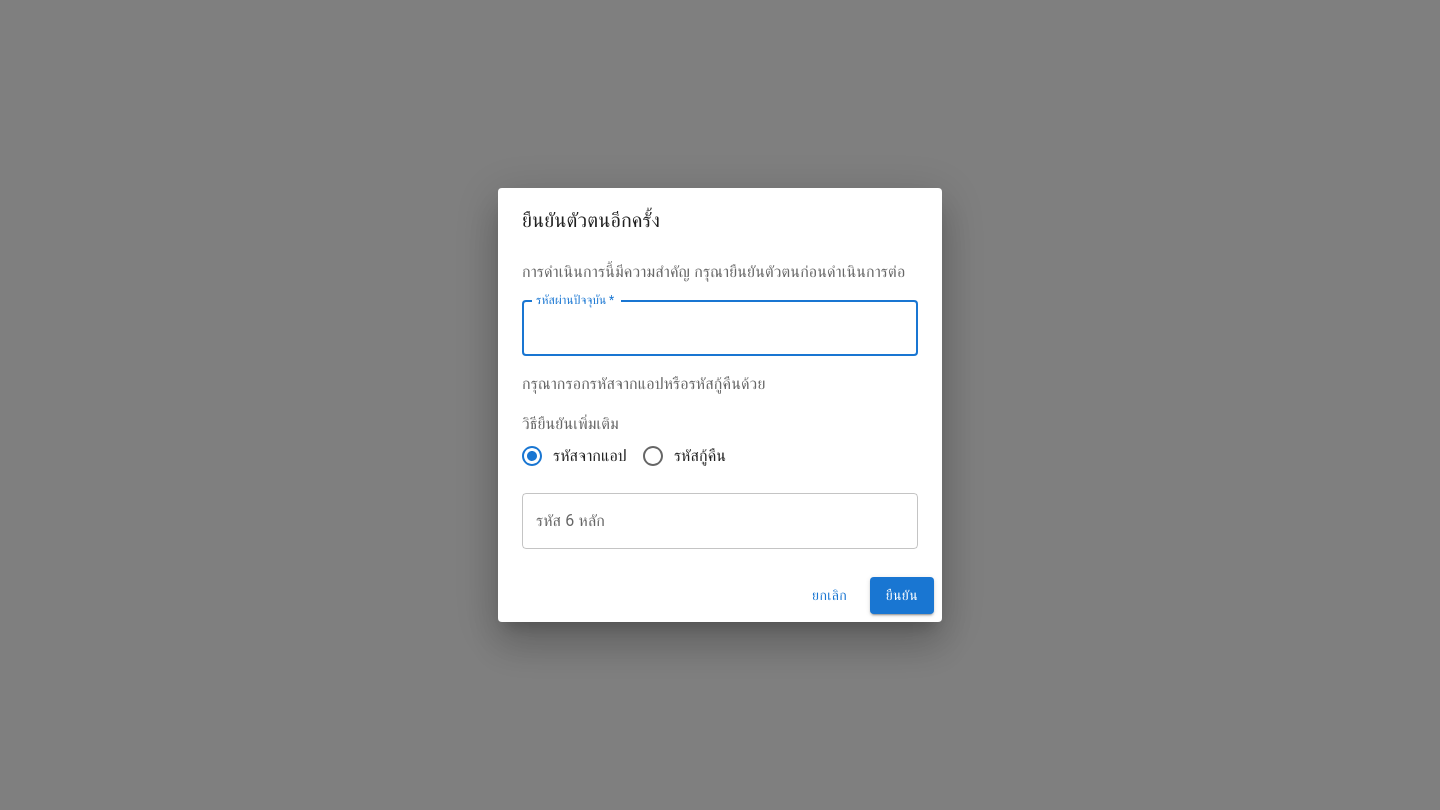
Test: ReauthenticationDialog › requires an MFA factor for MFA assurance
The image size is (1440, 810).
Type "password" into the password field labelled "รหัสผ่านปัจจุบัน *" at (720, 328), box 522,300 -> 918,356
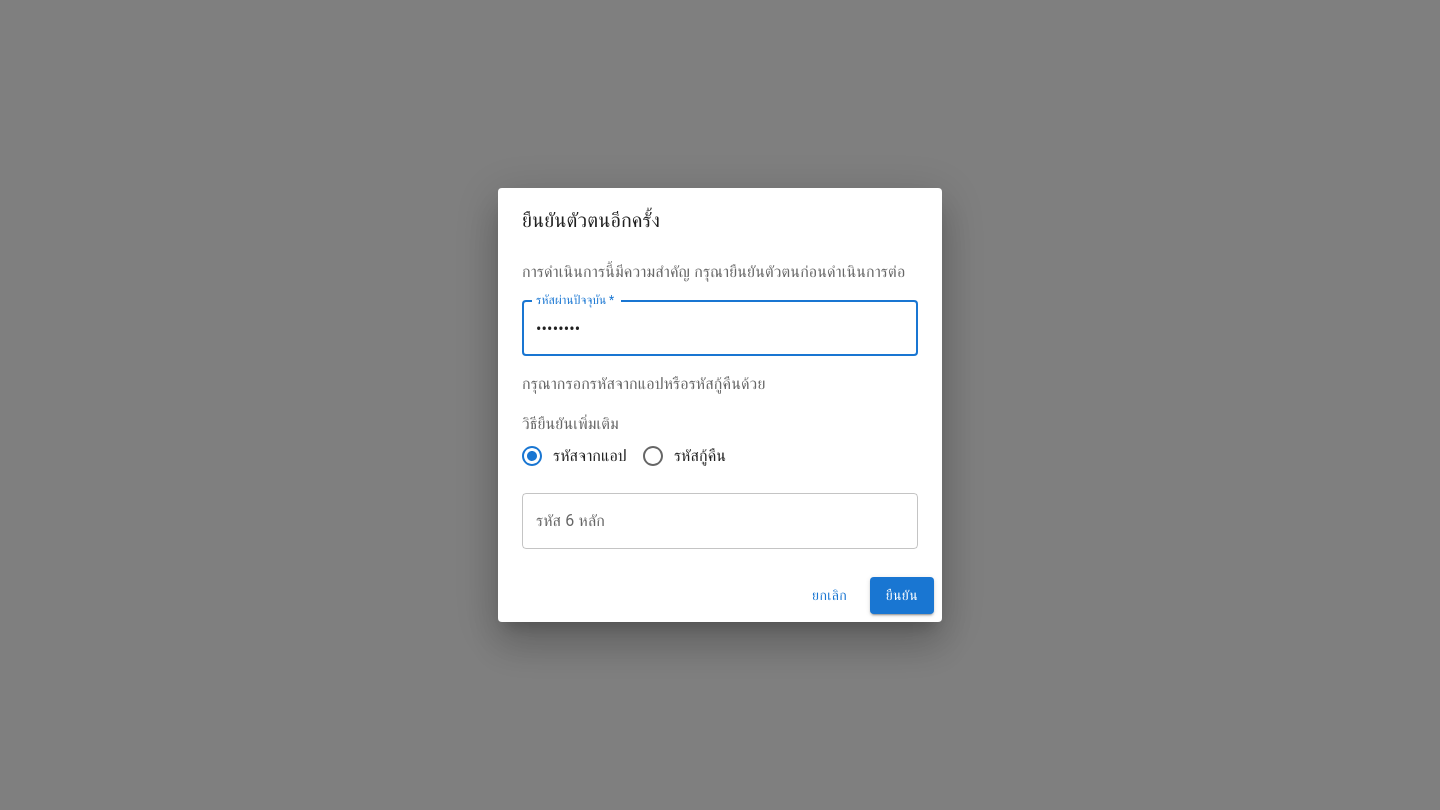
Click the button "ยืนยัน" at (902, 596), box 870,577 -> 934,614
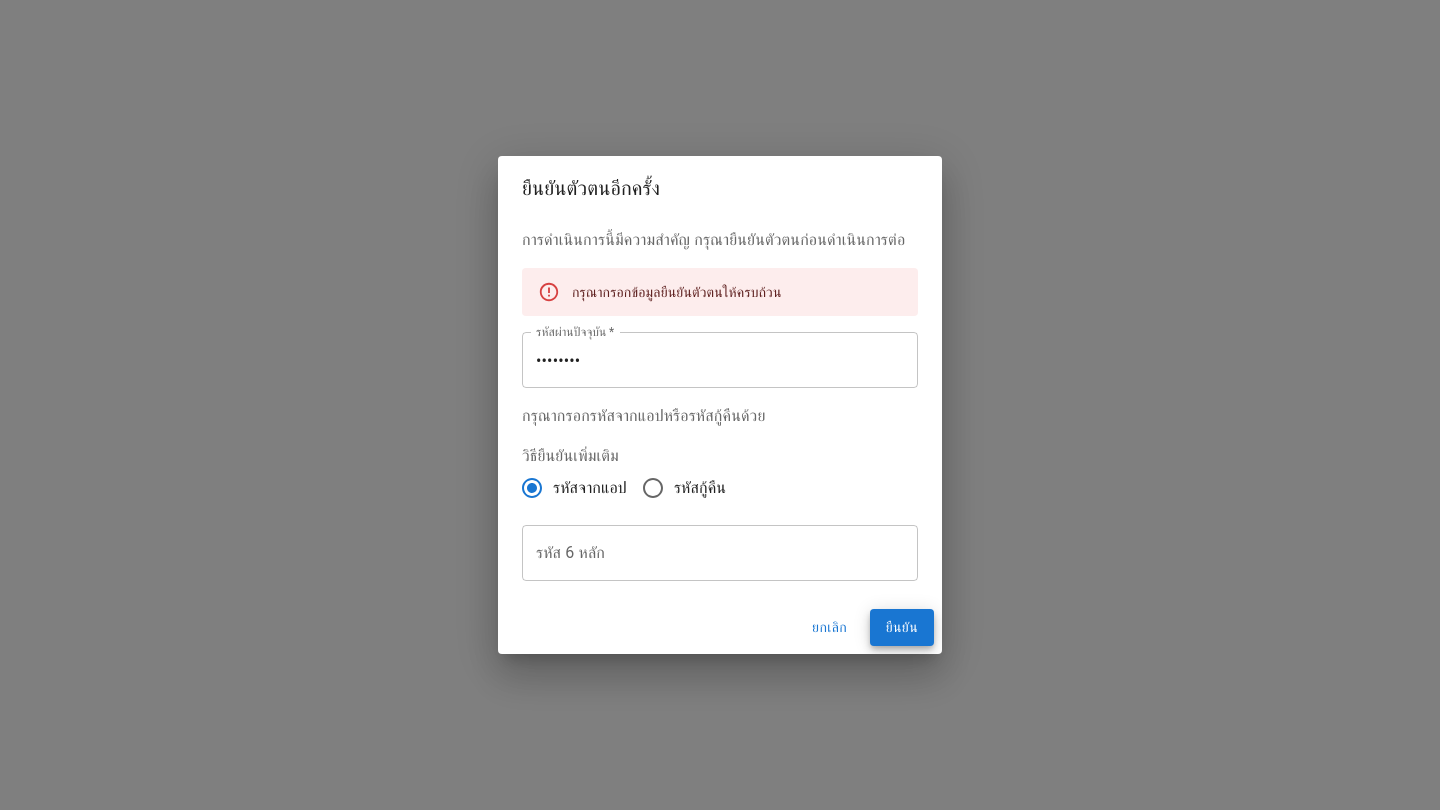
Expected: the dialog is shown, 498,156 -> 942,654
Now the text "กรุณากรอกข้อมูลยืนยันตัวตนให้ครบถ้วน" is shown, box 572,284 -> 782,300
